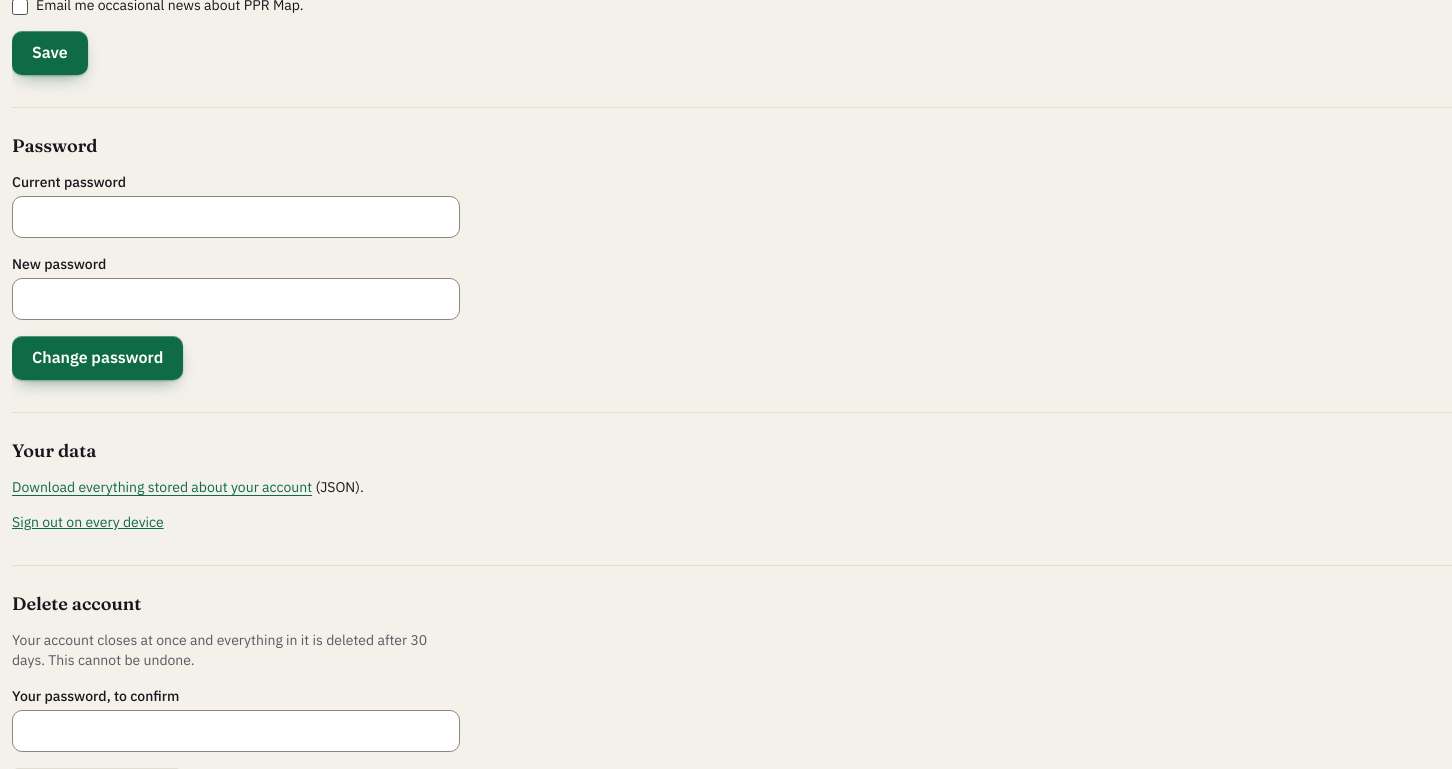
Test: AccountSettings › stays signed in and says so when signing out everywhere fails
(page scrolled)
Click the button "Sign out on every device" at (88, 522), box [12,512,164,532]
(page scrolled)
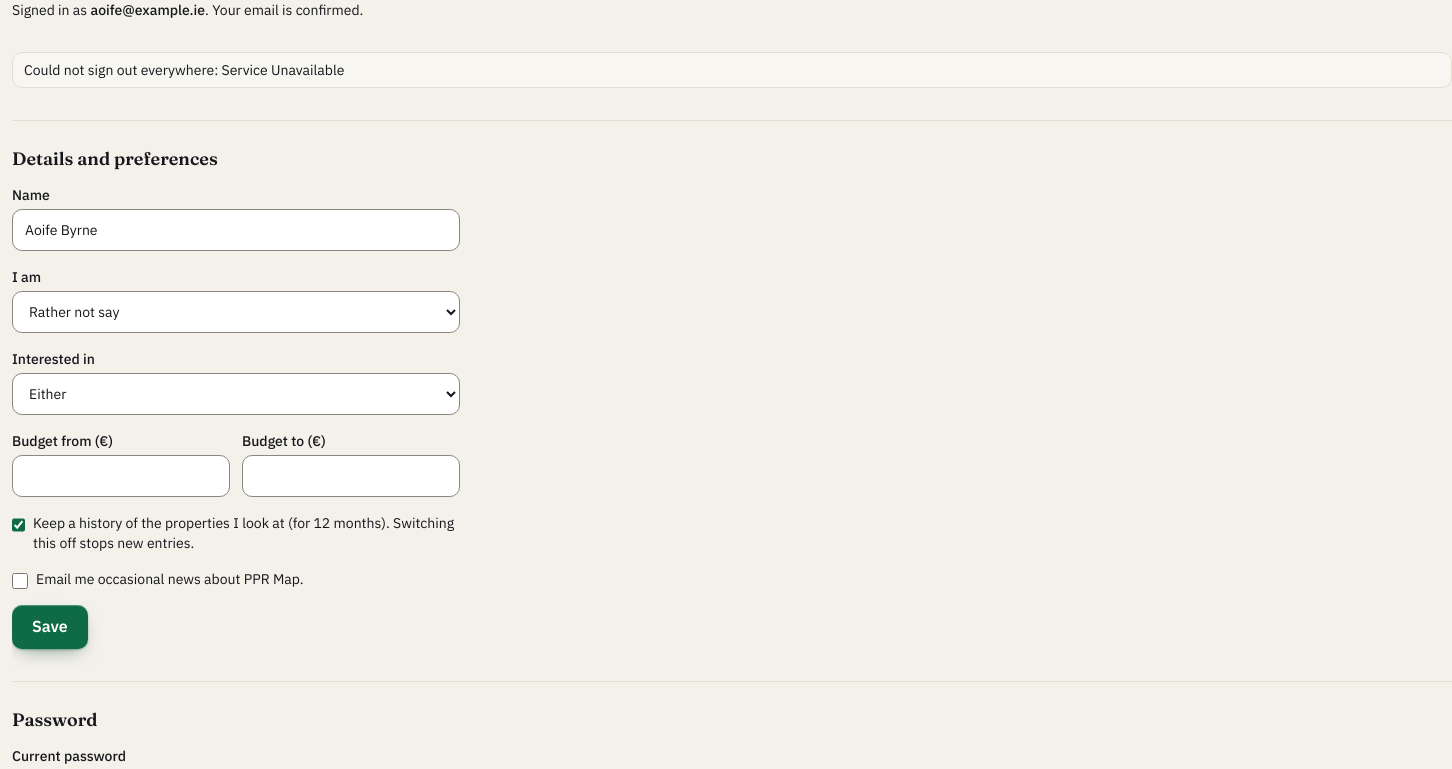
Expected: the text "Signed in as" is shown, [12,1,90,19]
Expected: the text "Could not sign out everywhere: Service Unavailable" is shown, [12,52,1451,88]
